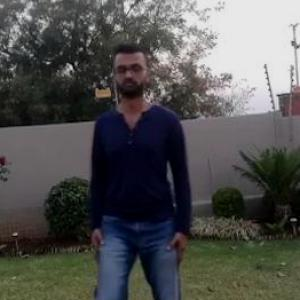follow: (78, 41, 187, 299)
